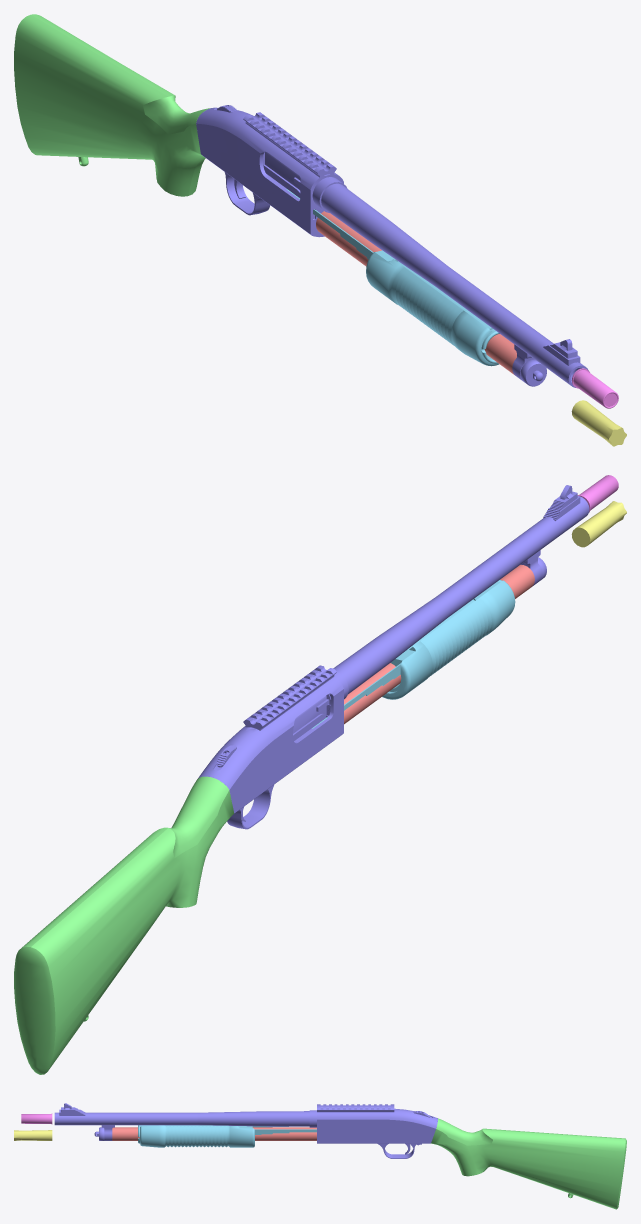
File: Escopeta.FBX
3 renders of one model, top to bottom at view 1: azimuth 30°, elevation 25°; view 2: azimuth 150°, elevation 25°; view 3: azimuth 270°, elevation 25°, orthographic. The views are drawn at different scales.
Visible parts, largest first — view 1: Mossberg500_low, Stock_low, Forend_low, Tube_low, Cartridge_12GaugeSpent_low, Cartridge_12Gauge_low; view 2: Stock_low, Mossberg500_low, Forend_low, Tube_low, Cartridge_12GaugeSpent_low; view 3: Stock_low, Mossberg500_low, Forend_low, Tube_low, Cartridge_12GaugeSpent_low, Cartridge_12Gauge_low.
Part boxes in pixels (x1,y1,x2,y2): Mossberg500_low: (196,105,588,387); Stock_low: (14,14,209,196); Forend_low: (286,189,499,366); Tube_low: (316,211,516,375); Cartridge_12GaugeSpent_low: (571,400,626,446); Cartridge_12Gauge_low: (571,368,618,408); Stock_low: (14,776,234,1074); Mossberg500_low: (198,485,589,829); Forend_low: (312,580,515,728); Tube_low: (344,564,534,724); Cartridge_12GaugeSpent_low: (571,501,626,547); Stock_low: (431,1118,626,1209); Mossberg500_low: (54,1103,437,1158); Forend_low: (138,1125,316,1147); Tube_low: (112,1127,316,1140); Cartridge_12GaugeSpent_low: (14,1130,52,1140); Cartridge_12Gauge_low: (21,1113,52,1124).
Size of the model in its own units: 1.92 by 8.32 by 43.9.
